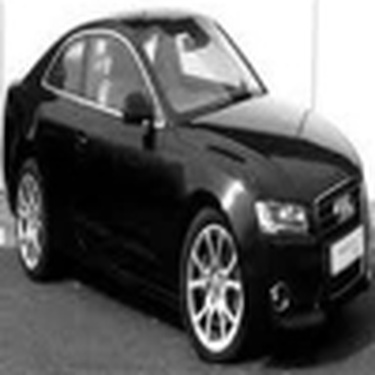car: (4, 1, 366, 369)
